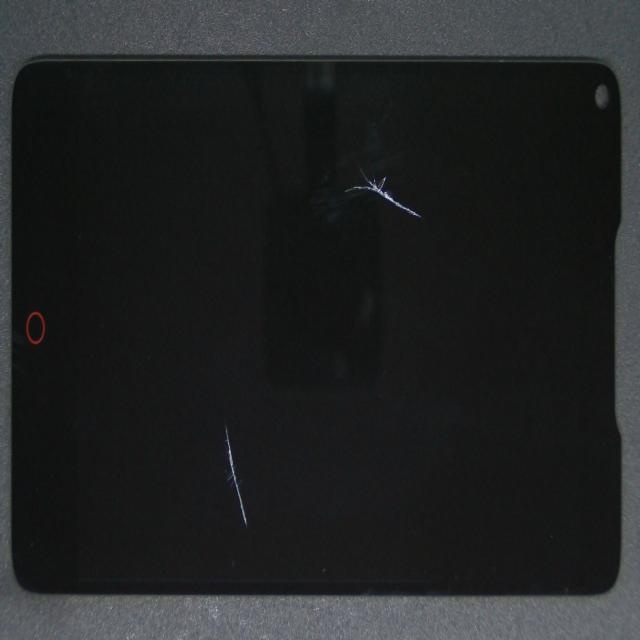scratch: (149, 326, 379, 640), (242, 85, 594, 251)
